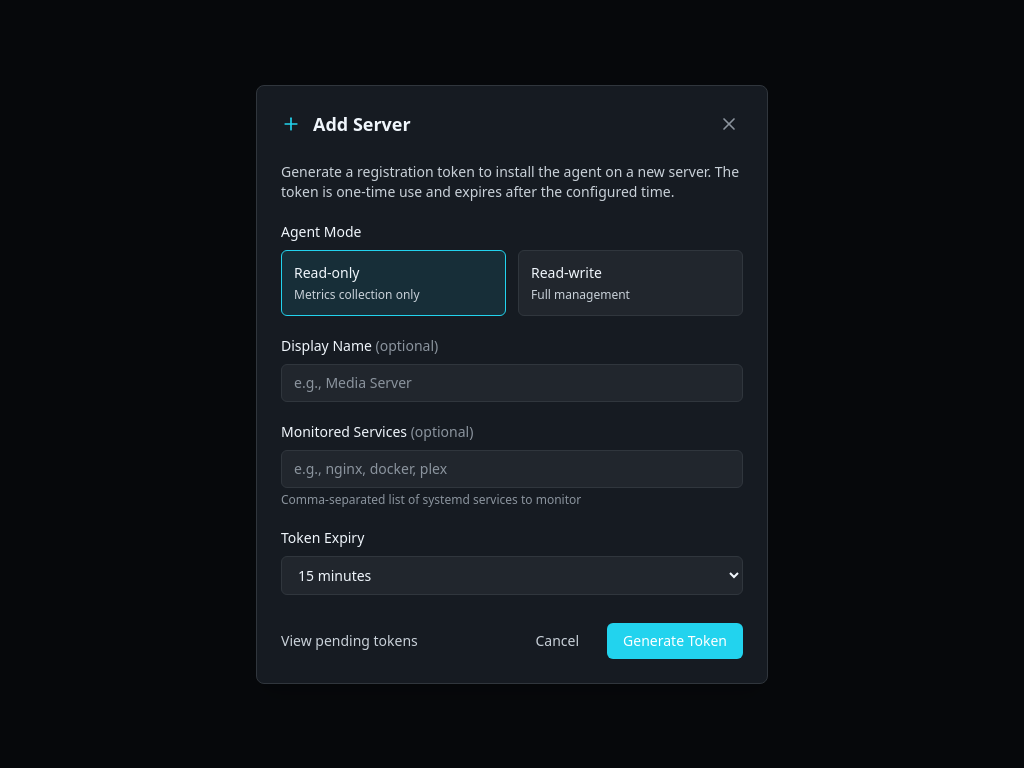
Test: AddServerModal › creates registration token
Click the button with test id "generate-token-button": (675, 640) [607,622,743,658]
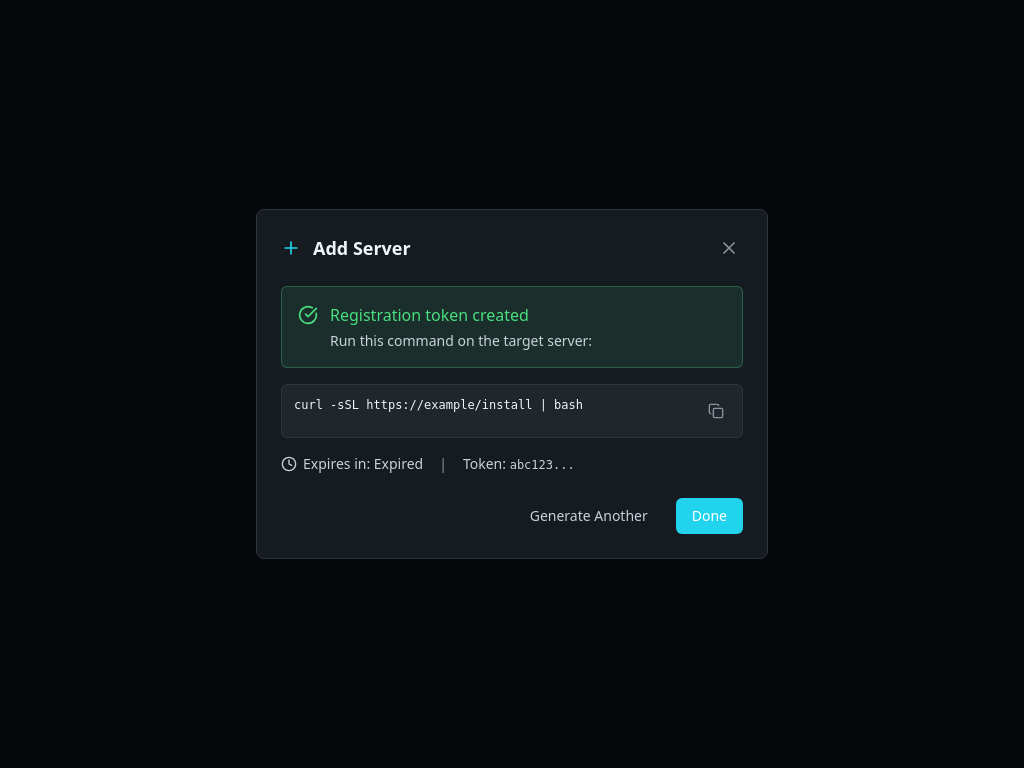
expect the text "Registration token created" is shown: met, box [330,304,529,326]
